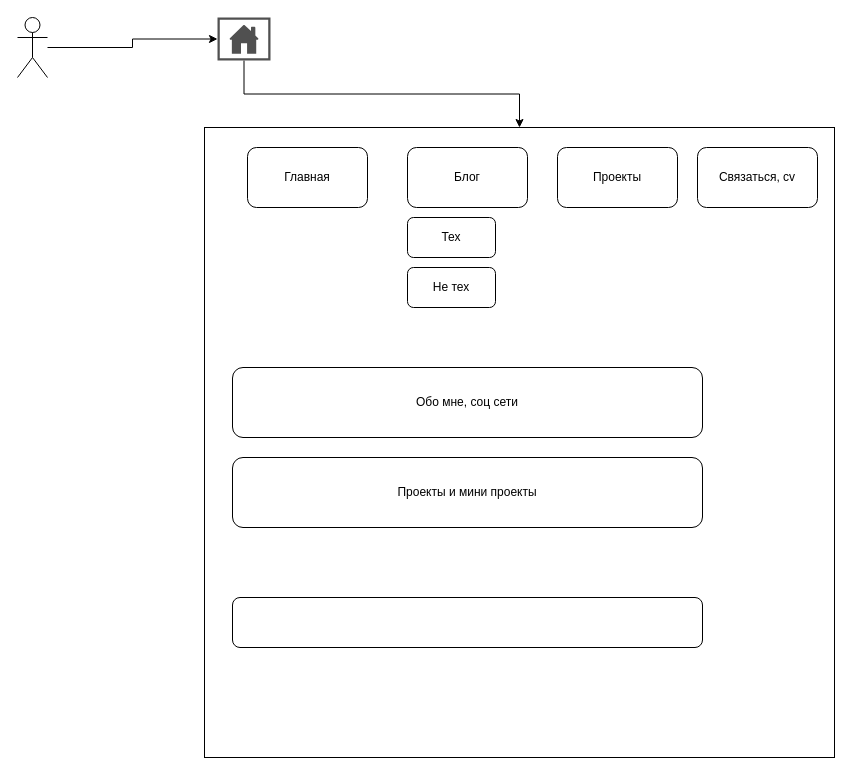
The diagram is 852 pixels wide and 775 high, and some of its shapes have lost their labels. Each missing label, with the box of its shape:
Actor: (16, 16, 48, 78)
CV: (232, 596, 702, 648)
